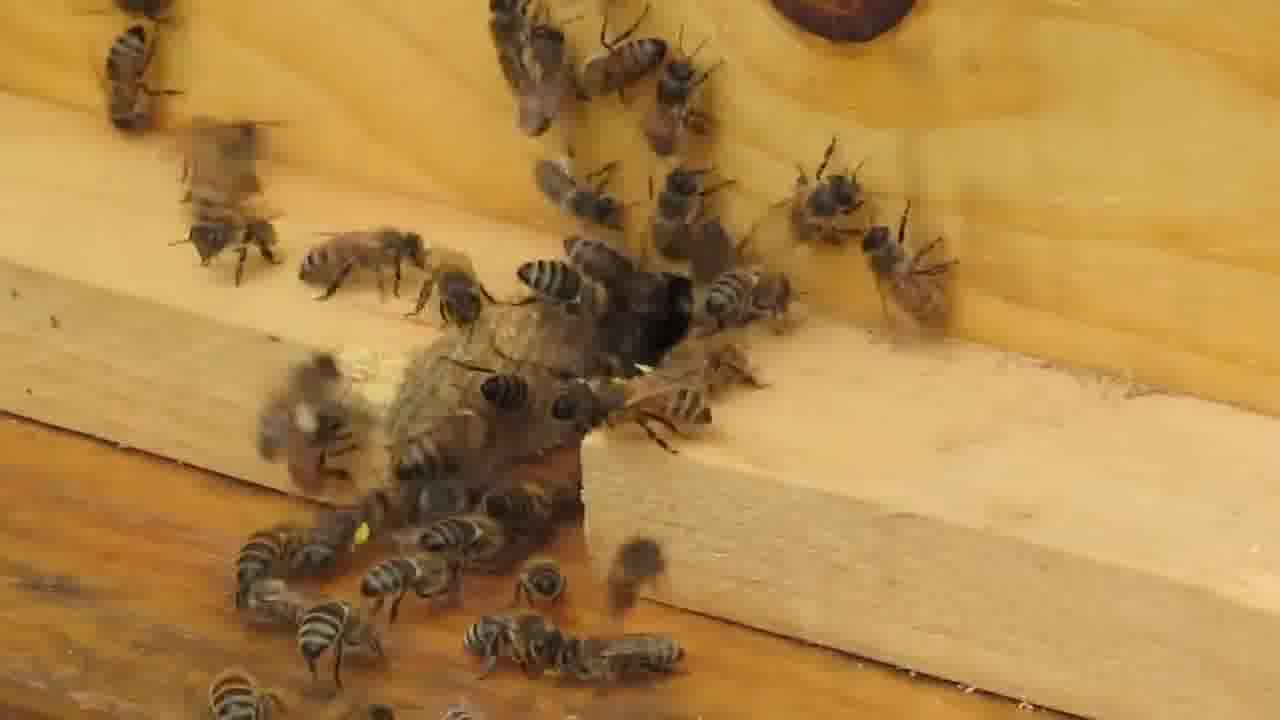pollen: (310, 491, 389, 562)
